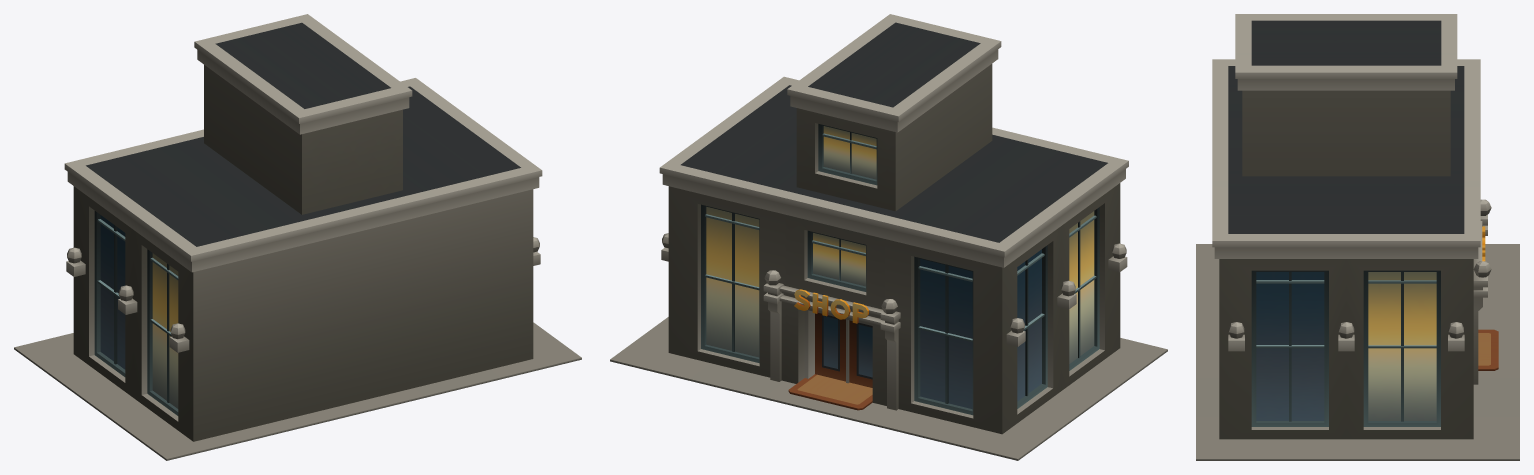
The model's file is BLD1210019.fbx.
3 views of the same model, side by side, from view 1: azimuth 30°, elevation 25°; view 2: azimuth 150°, elevation 25°; view 3: azimuth 270°, elevation 25° (orthographic). The views are drawn at different scales.
Parts seen in each view (by area): view 1: smBLD1210019; view 2: smBLD1210019; view 3: smBLD1210019.
Boxes of the visible parts, x1,y1,x2,y2 form: smBLD1210019: (14, 14, 581, 460); smBLD1210019: (610, 14, 1167, 460); smBLD1210019: (1196, 14, 1519, 460).
Size of the model in its own units: 1947 by 1310 by 1239.
1 material, 1 textured.
